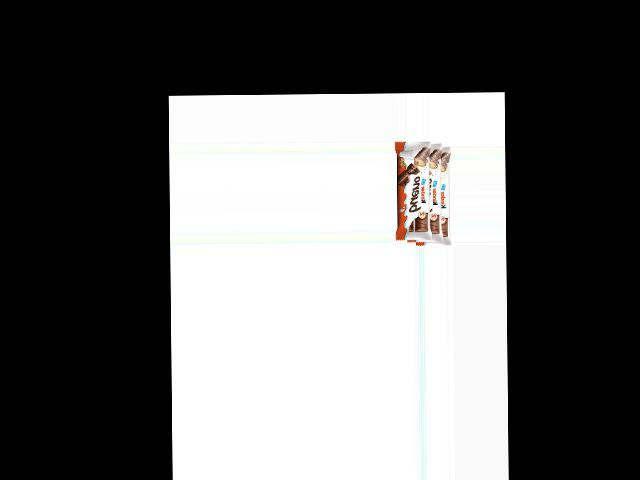chocolate: (393, 143, 451, 245)
